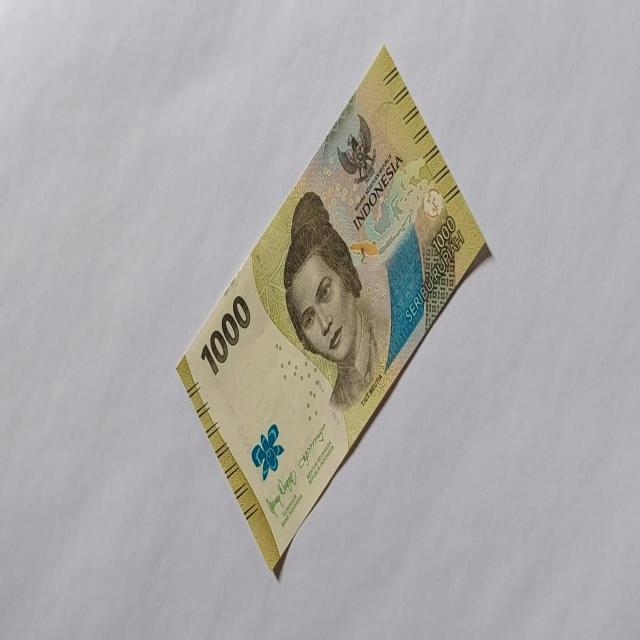seribu rupiah kertas: (174, 43, 492, 574)
